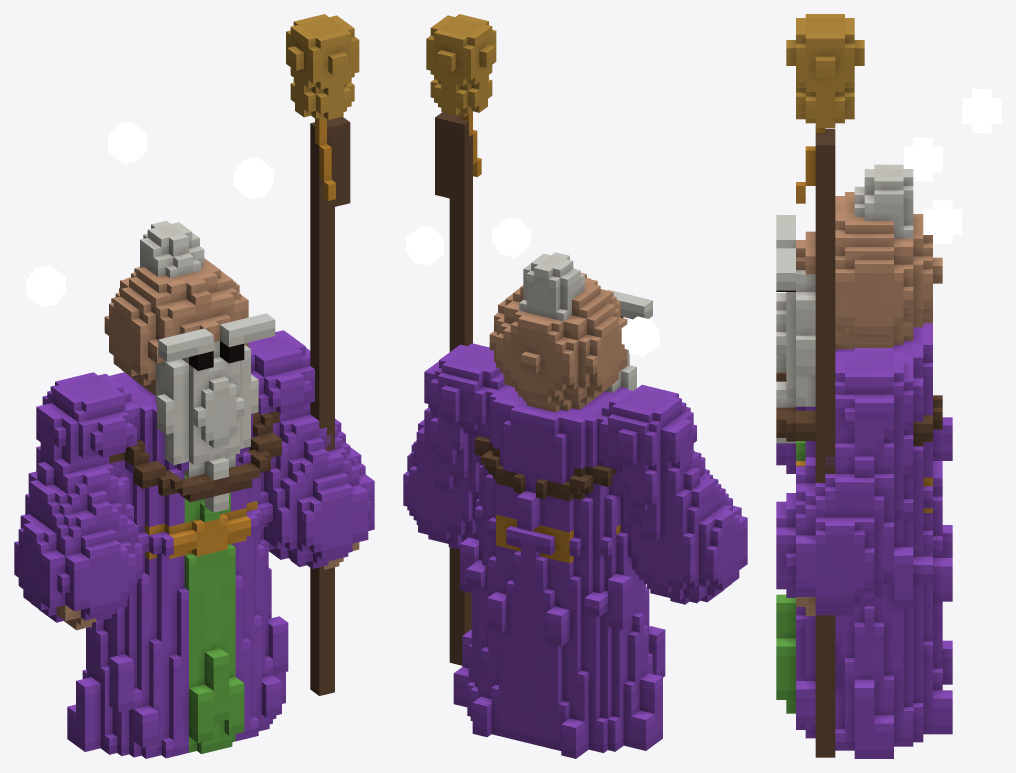
The model's file is u_oracle__moine.glb.
3 views of the same model, side by side, from view 1: azimuth 30°, elevation 25°; view 2: azimuth 150°, elevation 25°; view 3: azimuth 270°, elevation 25° (orthographic). The views are drawn at different scales.
Parts seen in each view (by area): view 1: oracle_body, oracle_weapon, oracle_glow; view 2: oracle_body, oracle_weapon, oracle_glow; view 3: oracle_body, oracle_weapon, oracle_glow.
Part boxes in pixels (x1=…): oracle_body: x1=14, y1=220, x2=374, y2=758; oracle_weapon: x1=286, y1=14, x2=359, y2=695; oracle_glow: x1=26, y1=121, x2=273, y2=307; oracle_body: x1=403, y1=252, x2=747, y2=758; oracle_weapon: x1=426, y1=14, x2=496, y2=665; oracle_glow: x1=406, y1=217, x2=659, y2=356; oracle_body: x1=776, y1=164, x2=952, y2=758; oracle_weapon: x1=786, y1=14, x2=864, y2=757; oracle_glow: x1=903, y1=89, x2=1001, y2=243.
Size of the model in its own units: 1.05 by 2.1 by 0.575.
